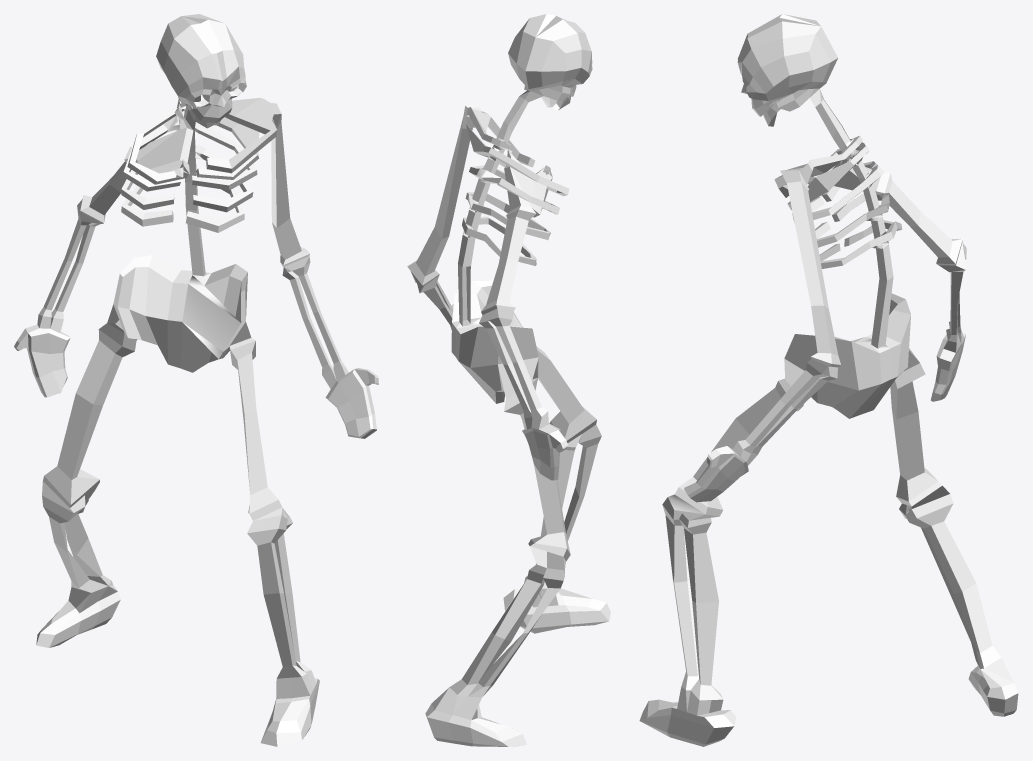
Rendered from SkeletonIdle(0).obj.
3 views of the same model, side by side, from view 1: azimuth 30°, elevation 25°; view 2: azimuth 150°, elevation 25°; view 3: azimuth 270°, elevation 25° (orthographic). The views are drawn at different scales.
Parts seen in each view (by area): view 1: Object002; view 2: Object002; view 3: Object002.
Part boxes in pixels (bbox=[...]): Object002: bbox=[14, 14, 378, 746]; Object002: bbox=[407, 14, 610, 746]; Object002: bbox=[639, 14, 1018, 746].
Bounding box in the file's own units: 419 × 1122 × 556.
